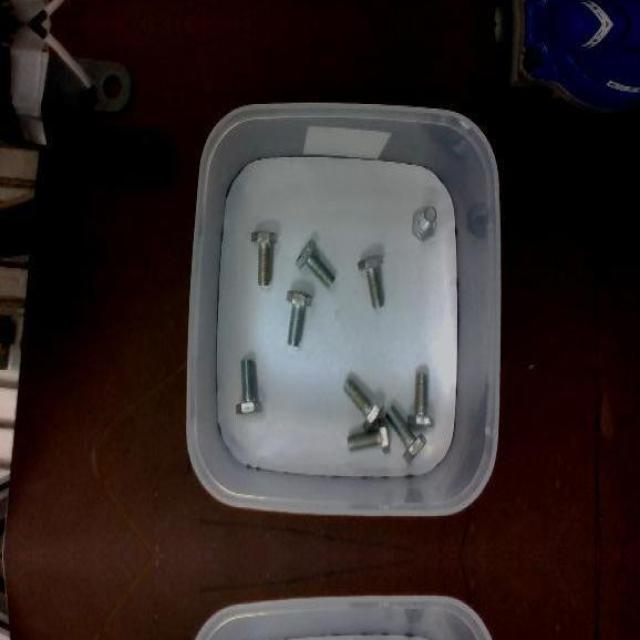screw: (384, 406, 426, 464), (342, 376, 384, 432), (294, 238, 336, 289), (346, 416, 388, 454), (358, 253, 385, 310), (408, 371, 435, 427), (286, 288, 312, 345), (235, 358, 261, 414), (251, 229, 277, 284), (412, 204, 436, 241)
